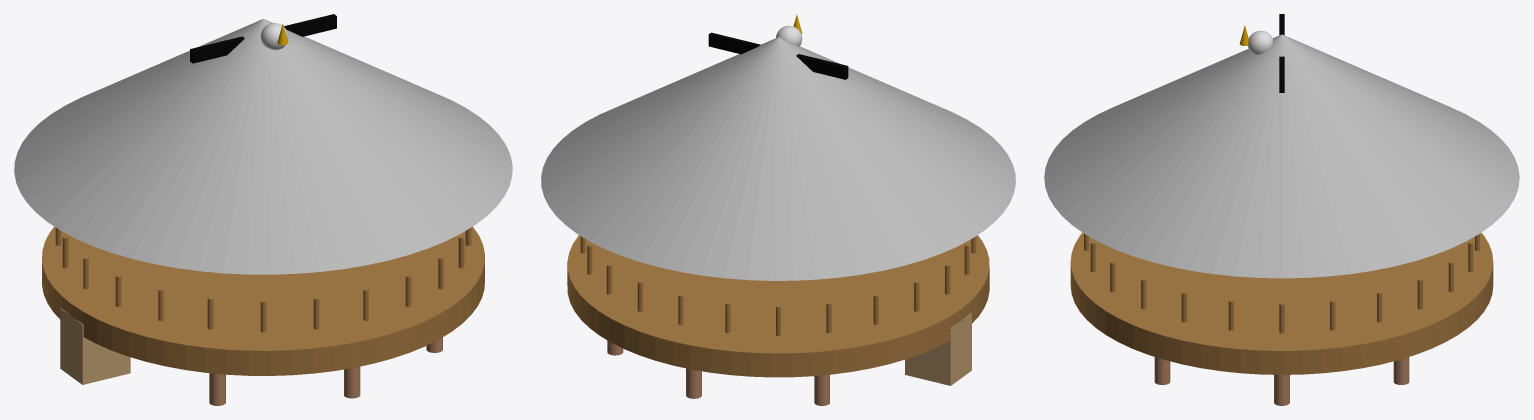
The model's file is rumah_adat_jagoi_babang_scaled.glb.
3 renders of one model, left to right at view 1: azimuth 30°, elevation 25°; view 2: azimuth 150°, elevation 25°; view 3: azimuth 270°, elevation 25°, orthographic. The views are drawn at different scales.
Parts seen in each view (by area): view 1: world; view 2: world; view 3: world.
Boxes of the visible parts, x1,y1,x2,y2 form: world: (14,14,512,405); world: (541,15,1015,405); world: (1044,14,1519,405).
Size of the model in its own units: 2.7 by 1.92 by 2.7.
